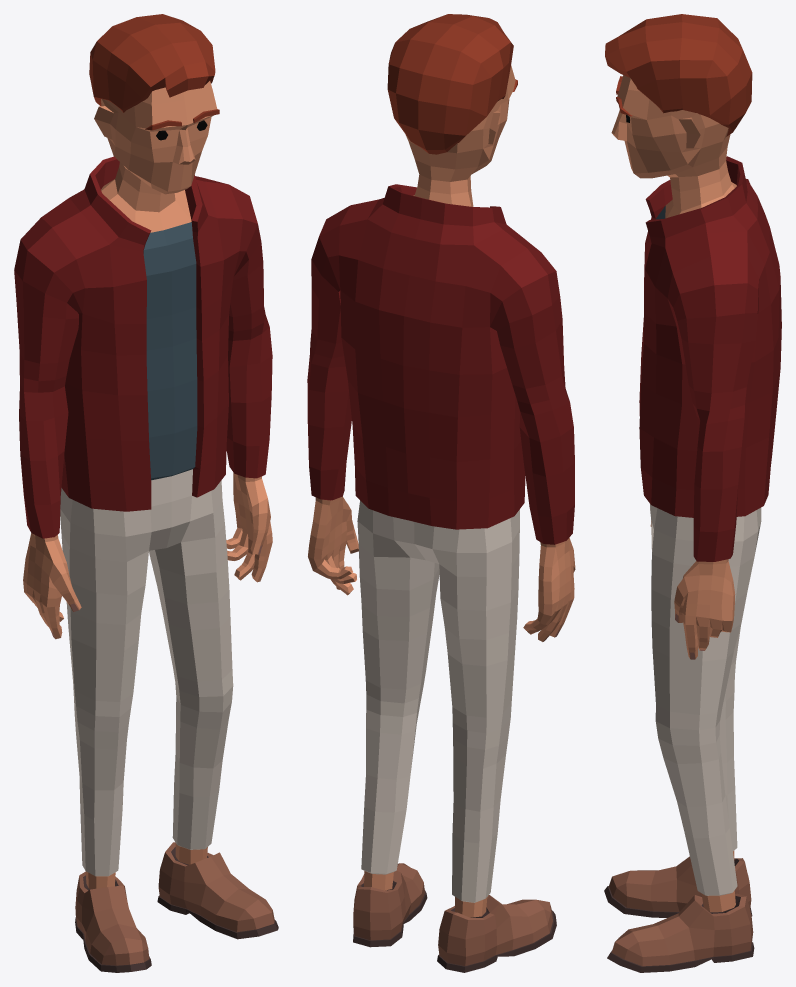
File: Male_02.obj
The picture shows the model from 3 angles, left to right: view 1: azimuth 30°, elevation 25°; view 2: azimuth 150°, elevation 25°; view 3: azimuth 270°, elevation 25°; orthographic projection.
Parts seen in each view (by area): view 1: Body_02_Cube.000; view 2: Body_02_Cube.000; view 3: Body_02_Cube.000.
Part boxes in pixels (box(x1,y1,x2,y2)): Body_02_Cube.000: box(14, 14, 278, 972); Body_02_Cube.000: box(307, 14, 575, 972); Body_02_Cube.000: box(604, 14, 781, 972).
Bounding box in the file's own units: 0.5931 × 2.05 × 0.3634.
